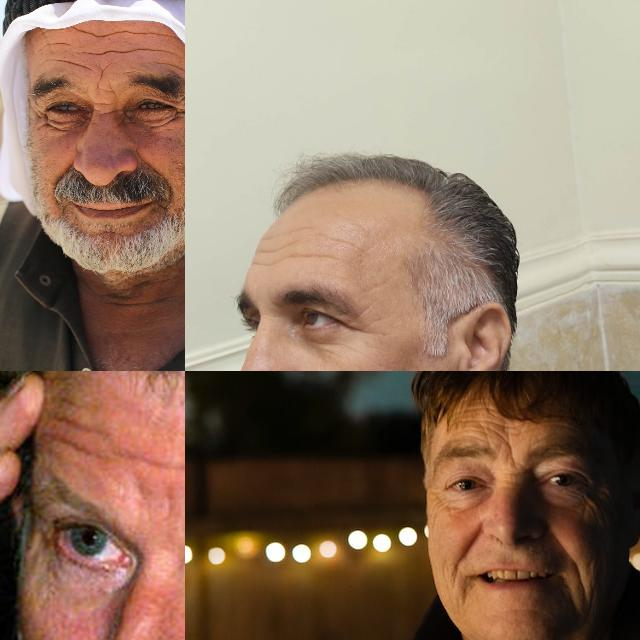crows_feet: (341, 314, 365, 340), (31, 107, 53, 131), (429, 493, 448, 517), (579, 491, 597, 515)
forehead: (54, 404, 100, 458), (130, 444, 185, 487), (462, 408, 518, 439), (128, 39, 176, 63), (290, 242, 334, 268), (260, 232, 284, 270), (324, 229, 360, 253), (78, 24, 125, 42), (130, 24, 168, 44), (87, 44, 127, 61), (54, 56, 94, 72), (42, 37, 74, 53), (168, 58, 185, 78)
frown_line: (94, 98, 118, 120), (94, 75, 115, 98), (504, 448, 520, 472)
gummy_smile: (454, 527, 484, 569), (548, 530, 582, 566), (140, 154, 168, 178), (55, 164, 73, 182)
masseter: (586, 578, 596, 618)
sad_smile: (558, 578, 576, 606), (460, 576, 474, 602)
